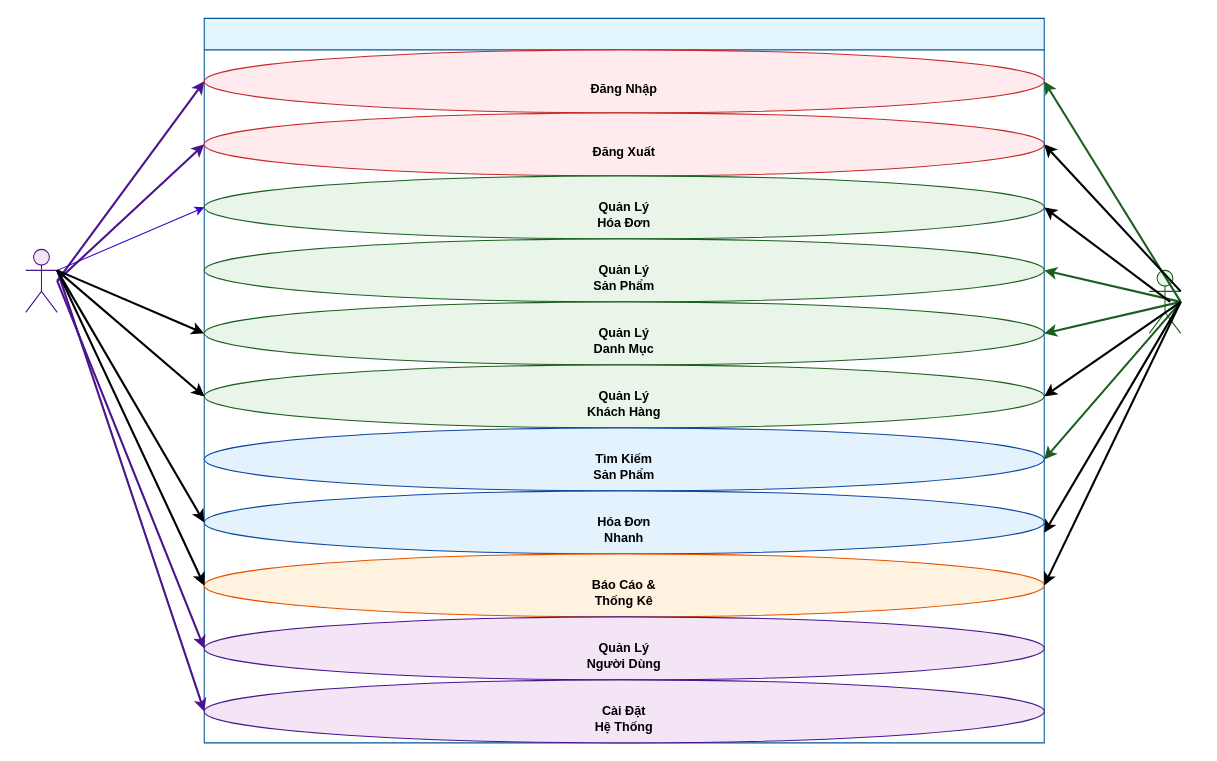
Some shapes in this 1217 by 761 pixel diagram are drawn without their labels. Each missing label, with the centre of its shape:
"👨‍💼 Admin" goes at (41,280).
"👩‍💼 Thu Ngân" goes at (1164,301).
